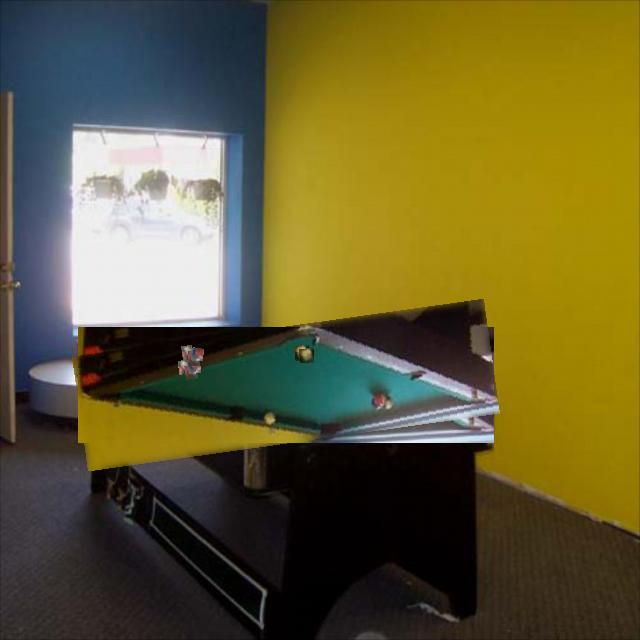Ball: (299, 348, 314, 363), (188, 352, 200, 366), (192, 348, 204, 361), (182, 346, 193, 360)
Billiard table: (75, 313, 497, 457)
